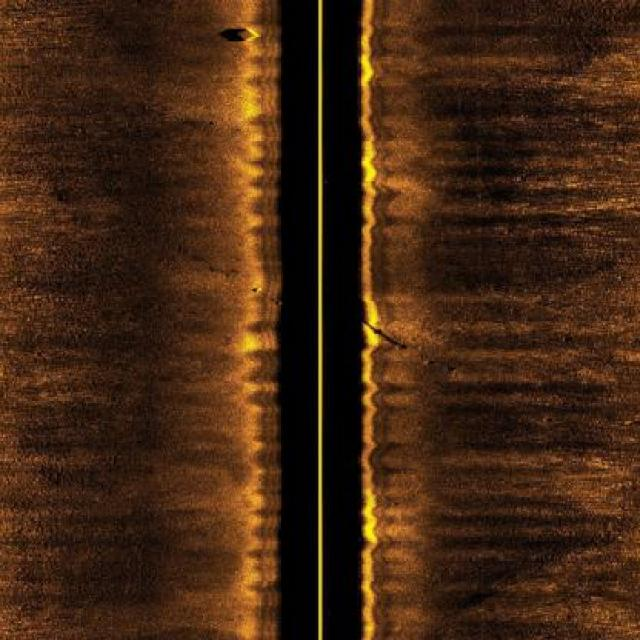other: (363, 322, 435, 370), (222, 18, 267, 42)
